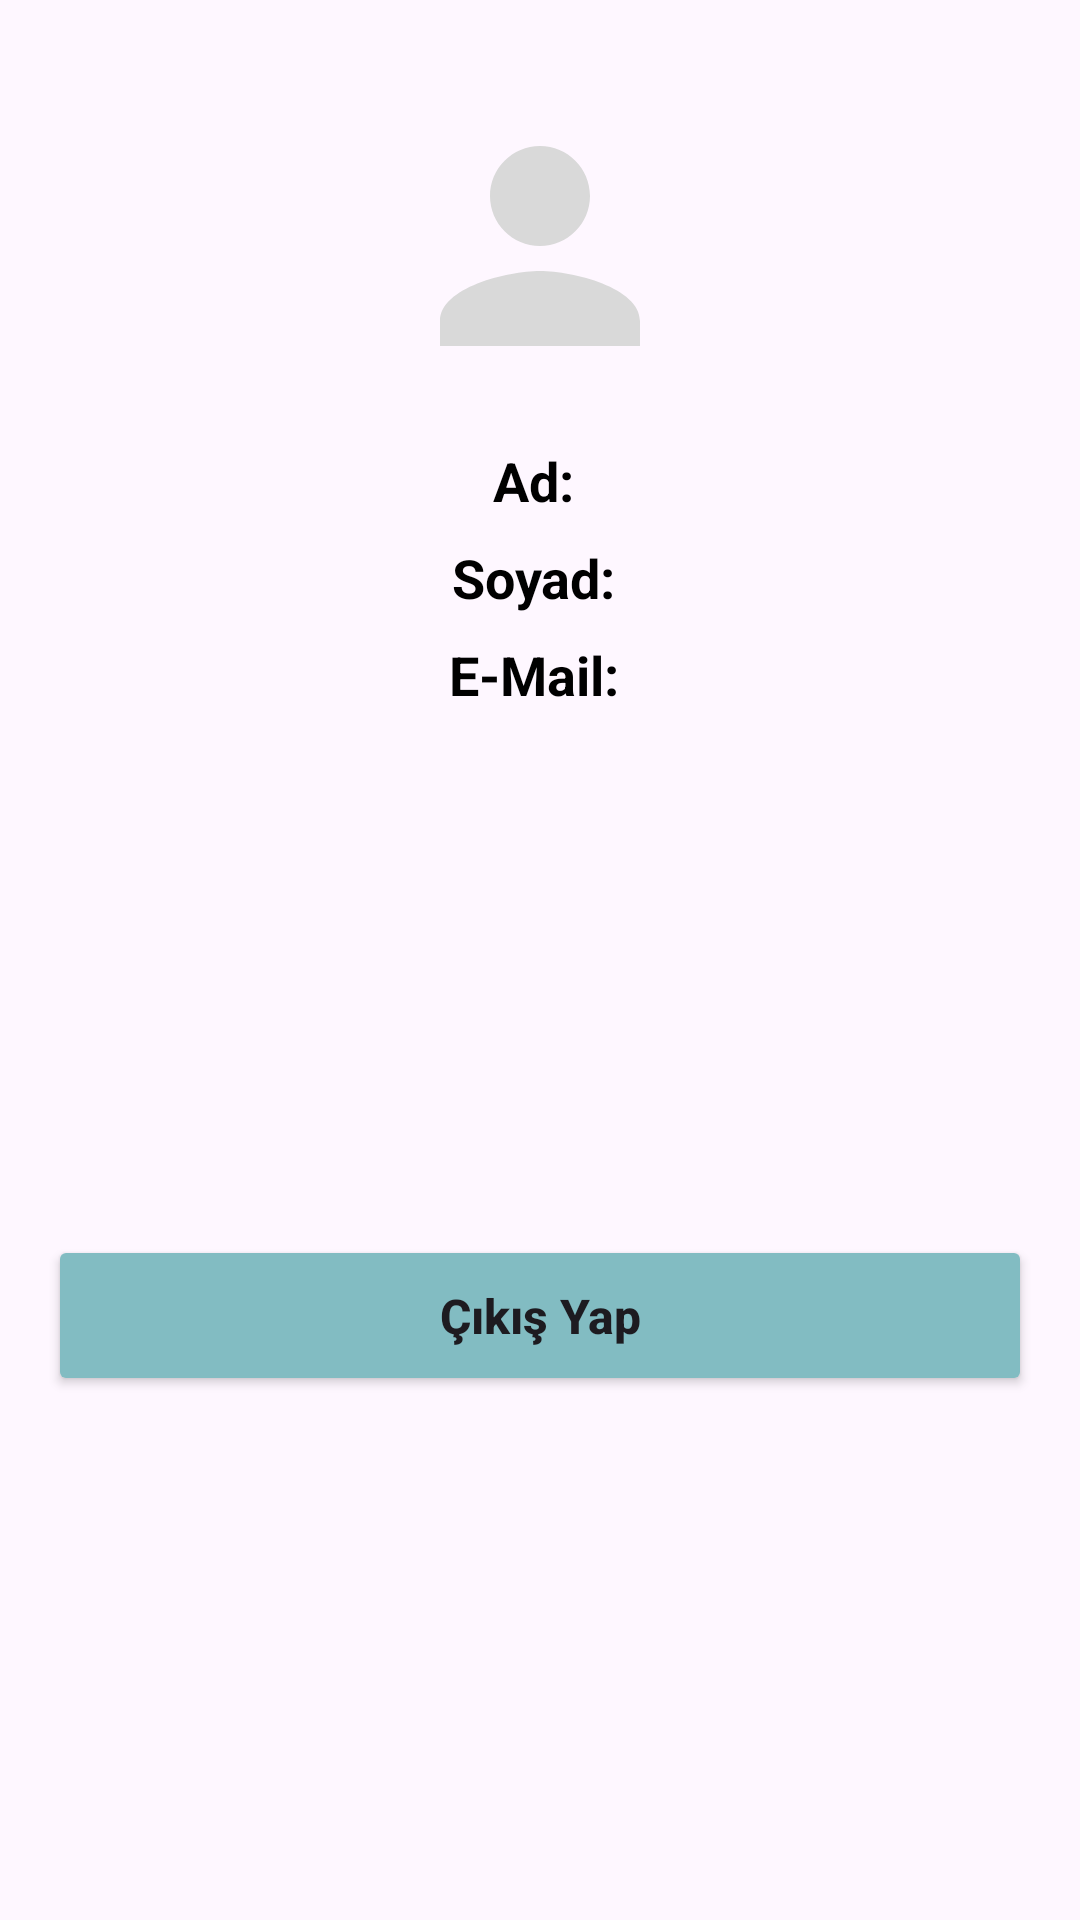

Where to tap for icons on this 1080*1920 app screen, as [x,y]:
Hesap Simgesi: [540,246]
